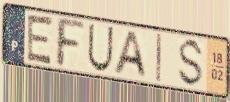A: (111, 30, 149, 81)
E: (25, 13, 56, 68)
F: (54, 15, 87, 70)
I: (155, 31, 163, 84)
S: (176, 37, 206, 90)
U: (86, 22, 115, 74)
